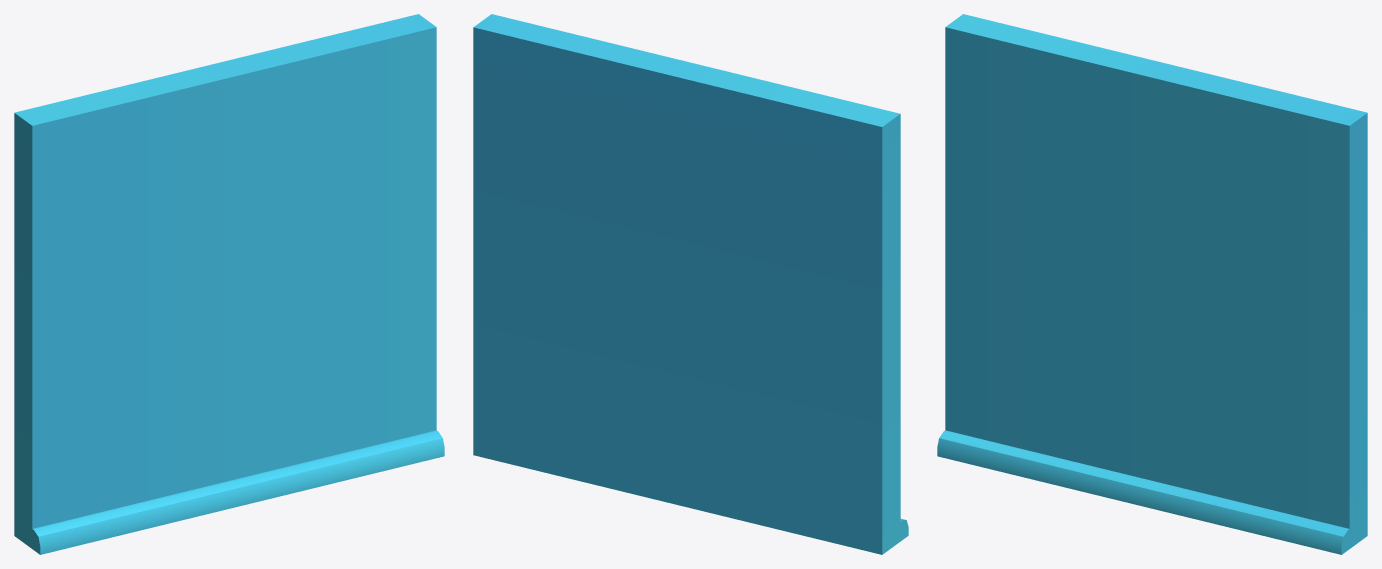
The model's file is Wall005.fbx.
3 renders of one model, left to right at view 1: azimuth 30°, elevation 25°; view 2: azimuth 150°, elevation 25°; view 3: azimuth 330°, elevation 25°, orthographic.
Parts seen in each view (by area): view 1: Wall005; view 2: Wall005; view 3: Wall005.
Boxes of the visible parts, x1,y1,x2,y2 form: Wall005: [14, 14, 444, 554]; Wall005: [473, 14, 908, 554]; Wall005: [937, 14, 1367, 554].
Size of the model in its own units: 250 by 250 by 27.87.
